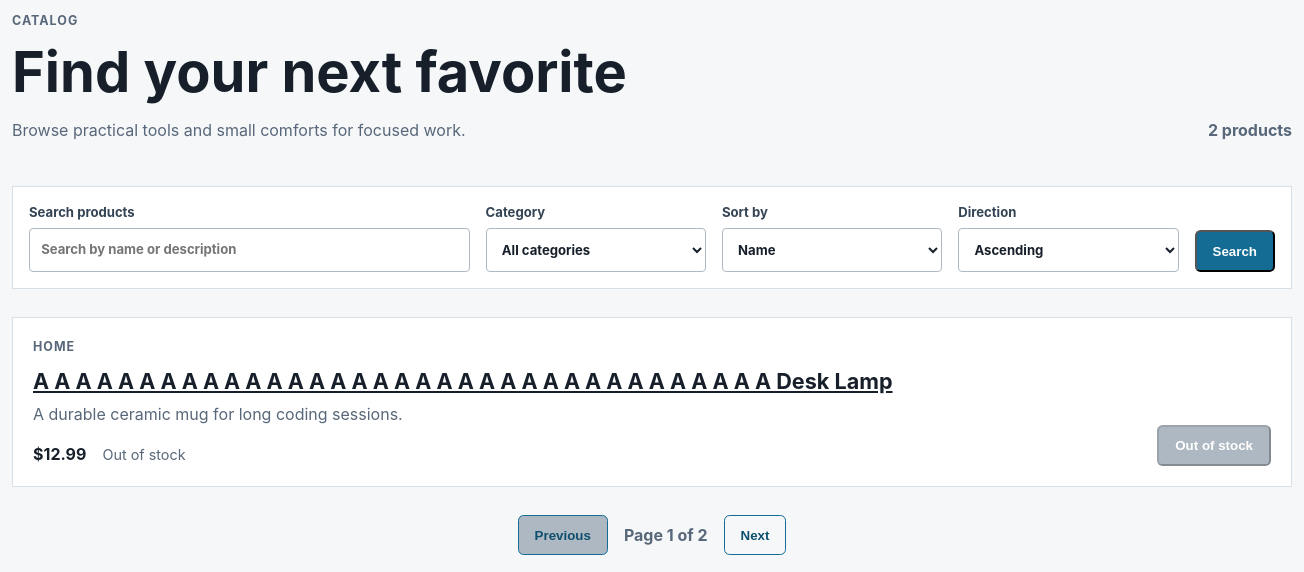
Scenario: product catalog › handles long names, out-of-stock products, and pagination
Expected: the button "Out of stock" is disabled, [1157,425,1271,466]
Click the button "Next": (755, 535) [724,515,786,555]
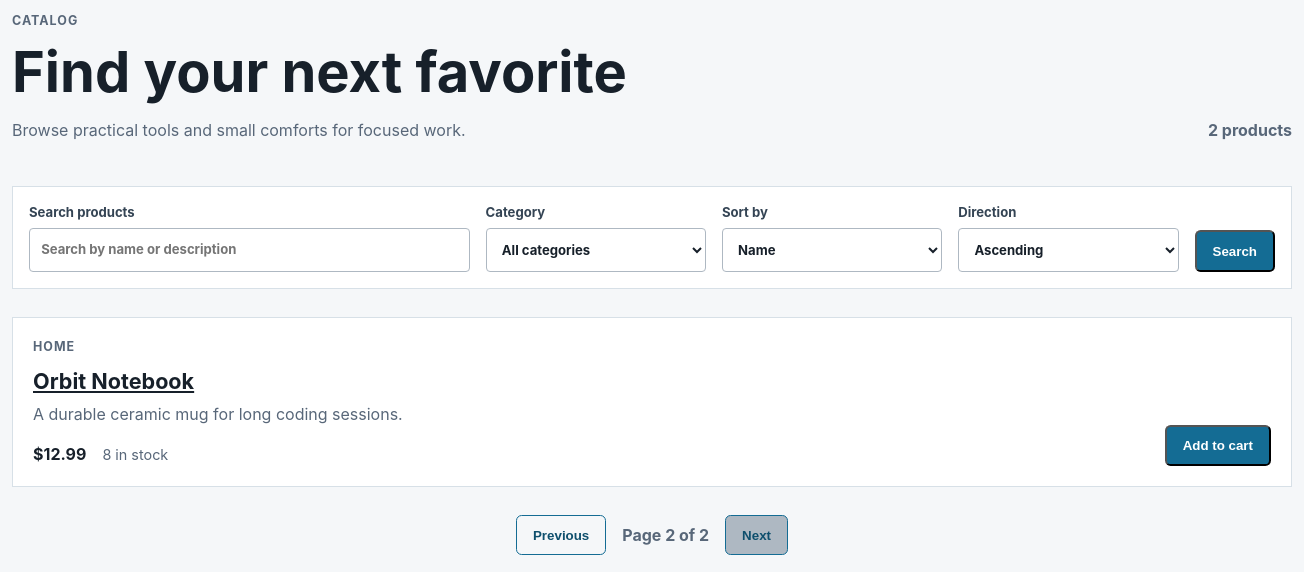
Result: the heading "Orbit Notebook" is shown at [33,368,194,394]
